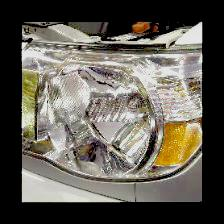head_lamp: (47, 66, 188, 188)
